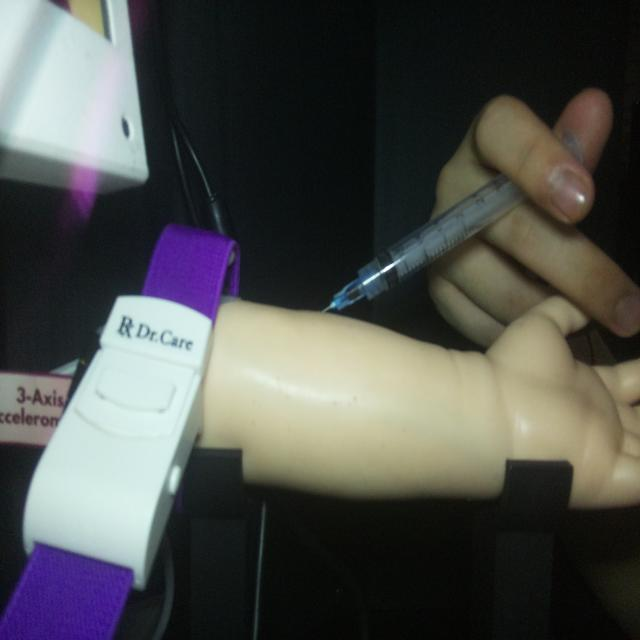24 degrees: (319, 125, 586, 316)
